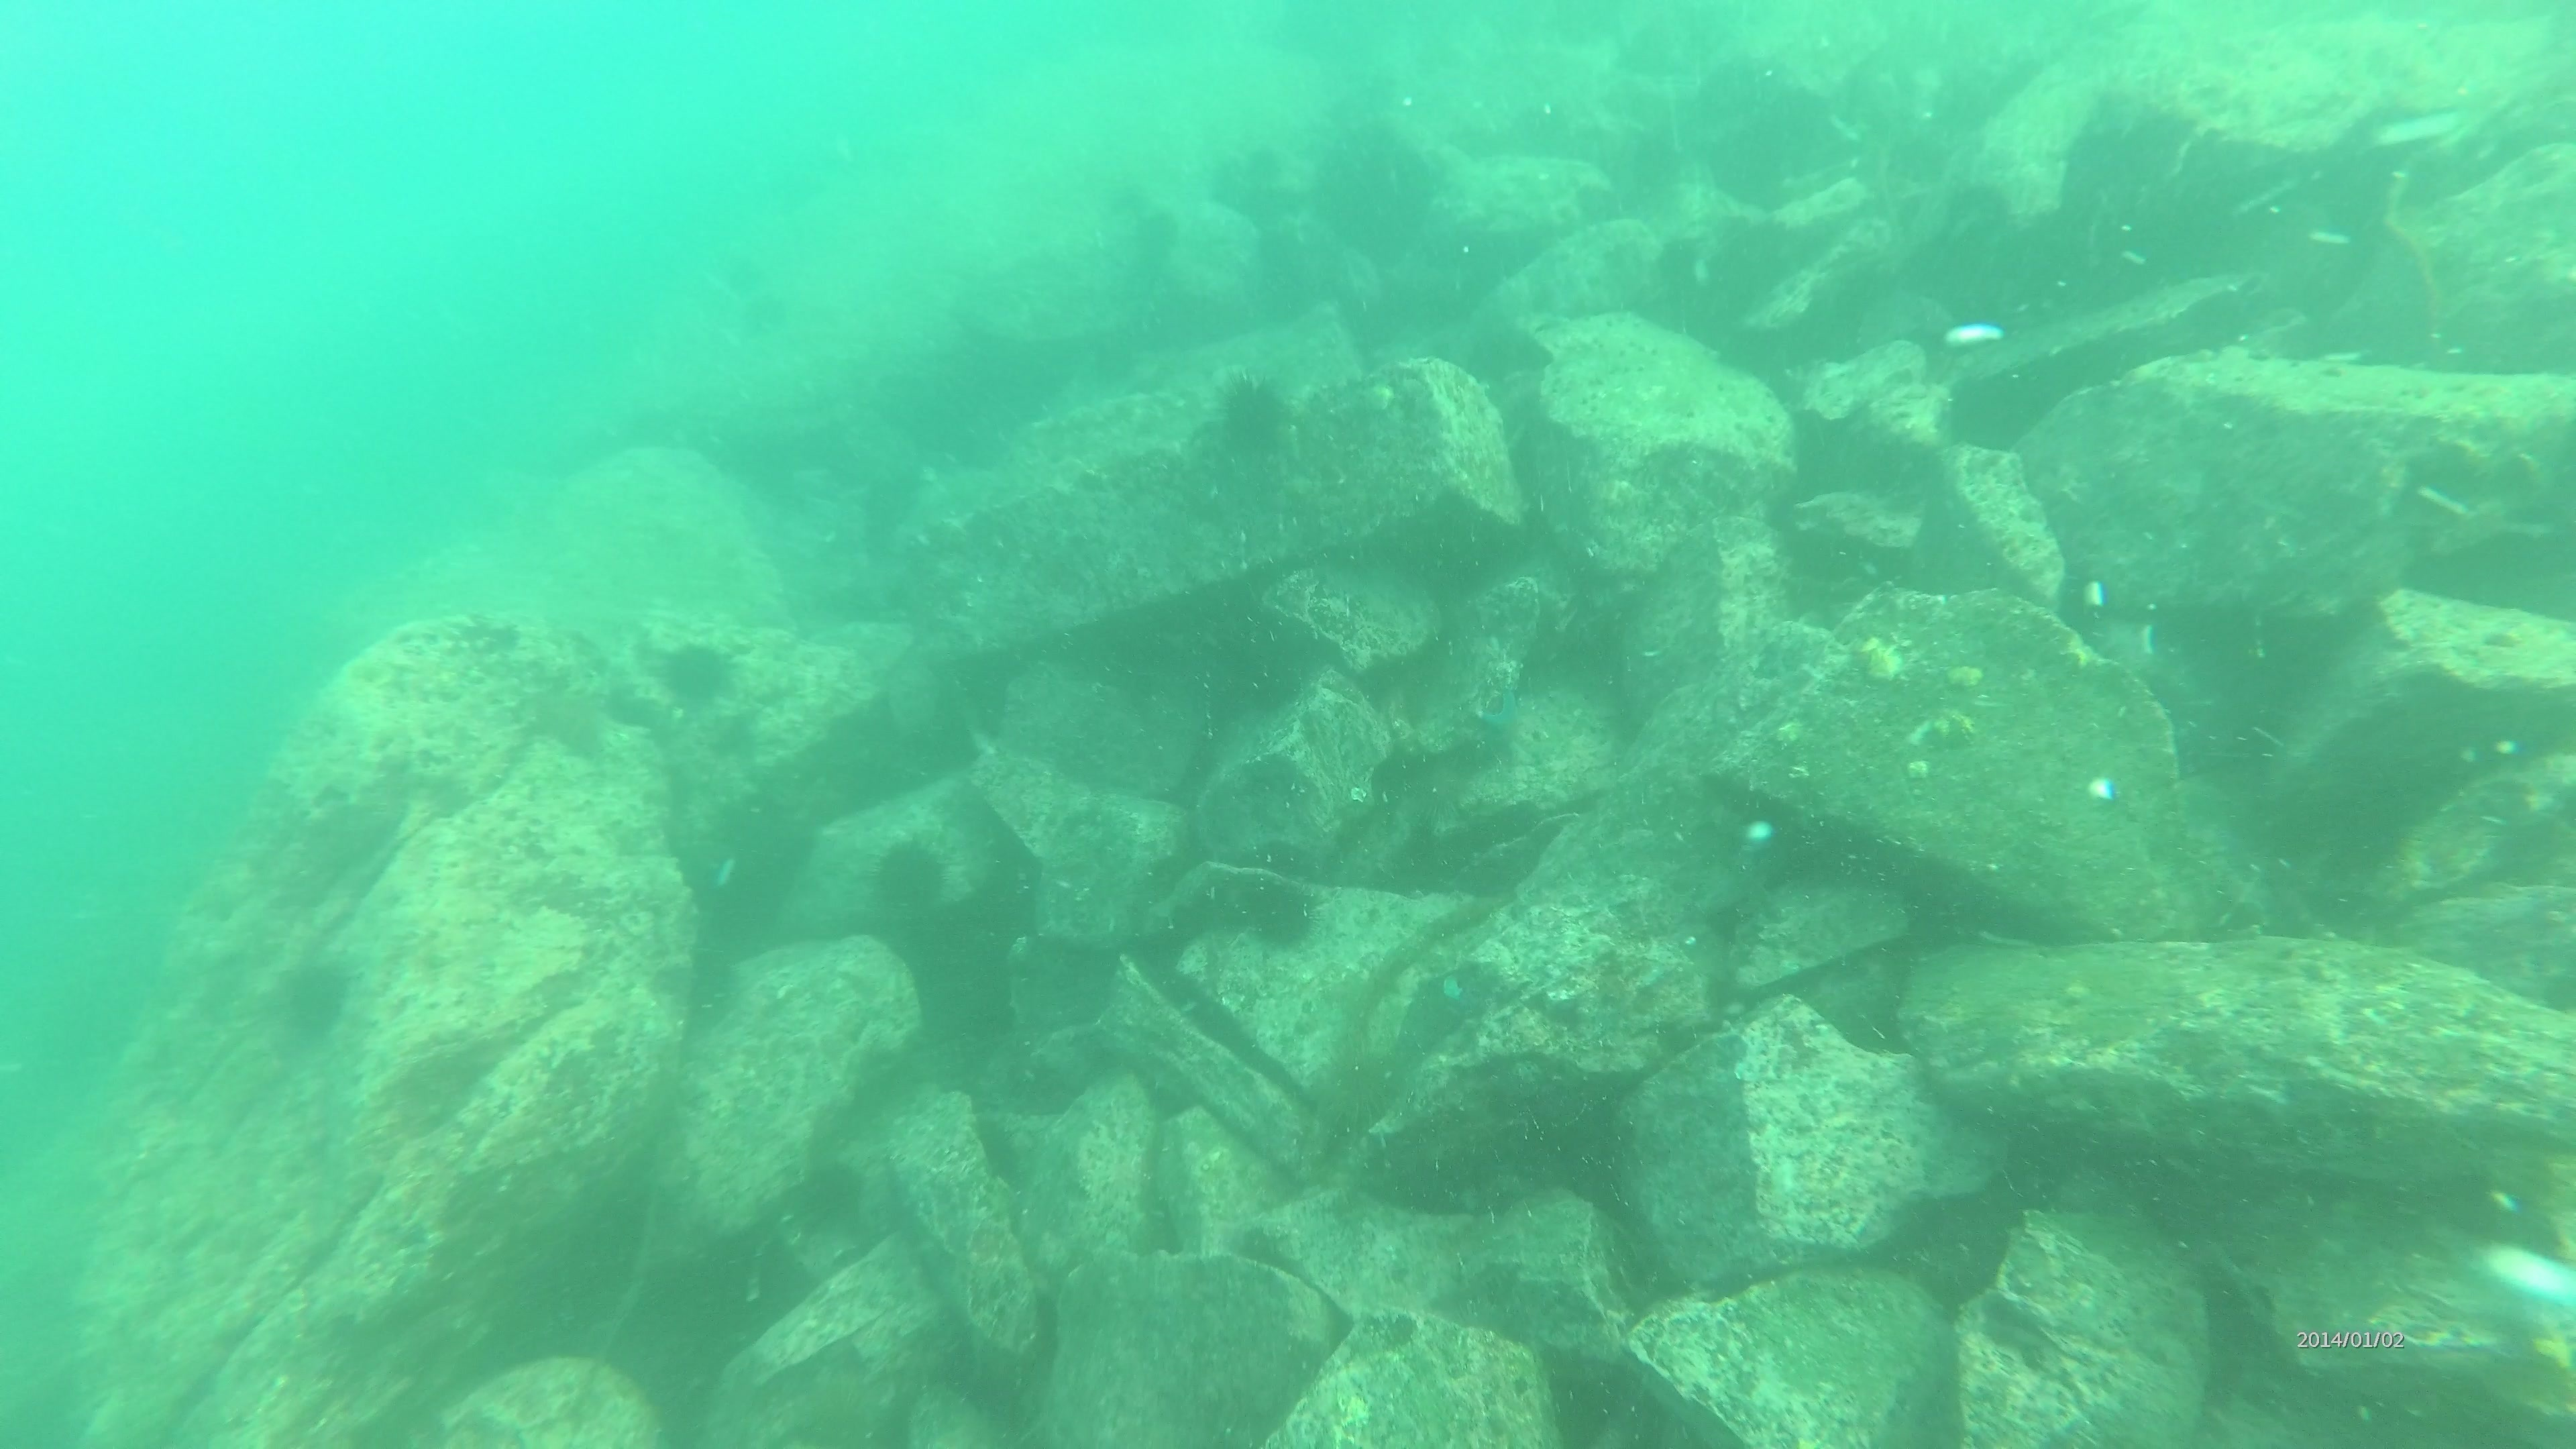echinus: (508, 667, 621, 764), (860, 830, 959, 934), (1205, 366, 1302, 472), (267, 945, 363, 1049), (1228, 867, 1327, 957), (649, 632, 745, 718)
starfish: (1477, 679, 1520, 750)
